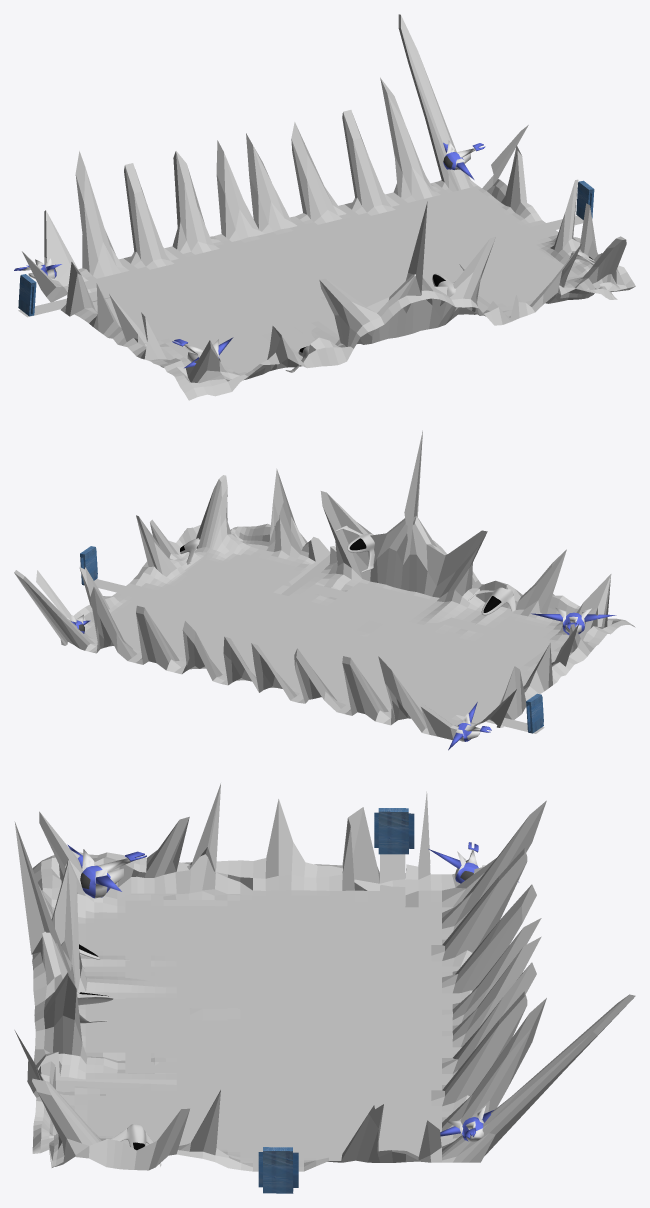
Rendered from mapsingle2.fbx.
3 views of the same model, one above another, from view 1: azimuth 30°, elevation 25°; view 2: azimuth 150°, elevation 25°; view 3: azimuth 270°, elevation 25° (orthographic). The views are drawn at different scales.
Visible parts, largest first — view 1: Plane, Cube.004, Plane.002; view 2: Plane, Cube.002, Cube.000, Cube.009, Cube.003, Plane.002, Plane.001; view 3: Plane, Plane.002, Plane.001, Cube.002, Cube.004, Cube.003, Cube.001.
Boxes of the visible parts, x1,y1,x2,y2 form: Plane: [18, 14, 635, 400]; Cube.004: [443, 140, 485, 179]; Plane.002: [18, 274, 36, 316]; Plane: [14, 430, 635, 739]; Cube.002: [531, 608, 616, 634]; Cube.000: [467, 587, 515, 615]; Cube.009: [335, 525, 374, 572]; Cube.003: [448, 702, 491, 750]; Plane.002: [526, 693, 543, 733]; Plane.001: [80, 546, 97, 585]; Plane: [14, 783, 635, 1171]; Plane.002: [374, 808, 414, 854]; Plane.001: [258, 1147, 298, 1193]; Cube.002: [67, 844, 146, 898]; Cube.004: [440, 1106, 493, 1142]; Cube.003: [428, 842, 518, 883]; Cube.001: [111, 1124, 161, 1166].
Bounding box in the file's own units: 1698 × 499 × 1297.
